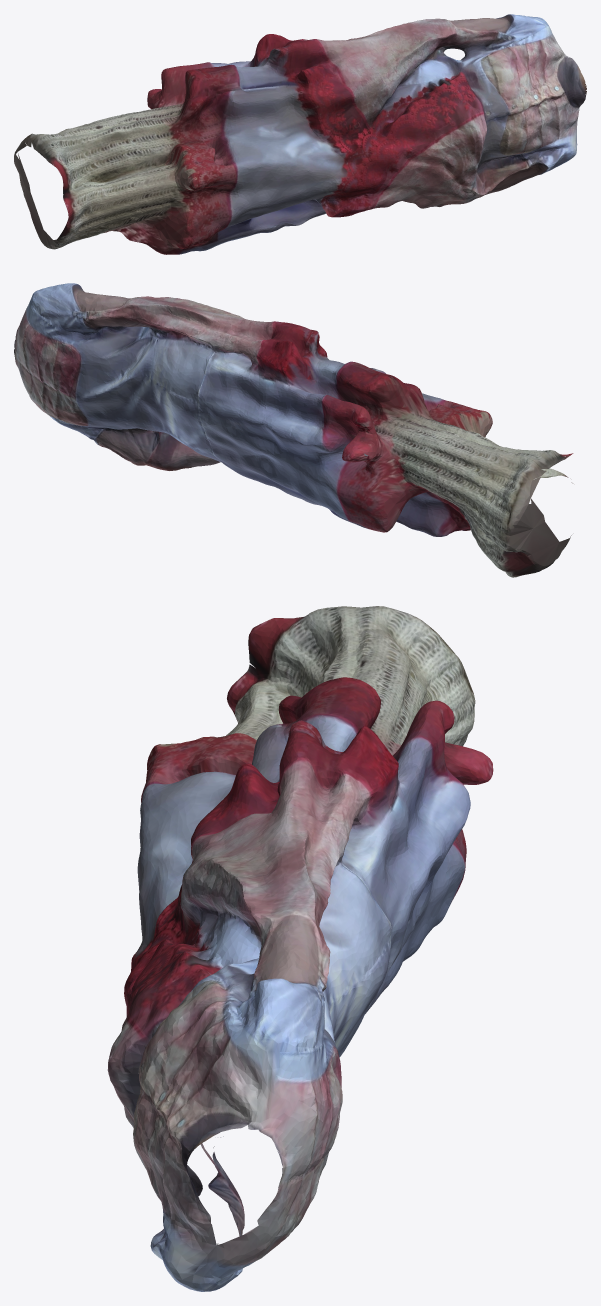
Rendered from look_2_pose_2.glb.
3 views of the same model, one above another, from view 1: azimuth 30°, elevation 25°; view 2: azimuth 150°, elevation 25°; view 3: azimuth 270°, elevation 25° (orthographic). The views are drawn at different scales.
Size of the model in its own units: 0.9064 by 0.3077 by 0.2986.
1 material, 1 textured.
